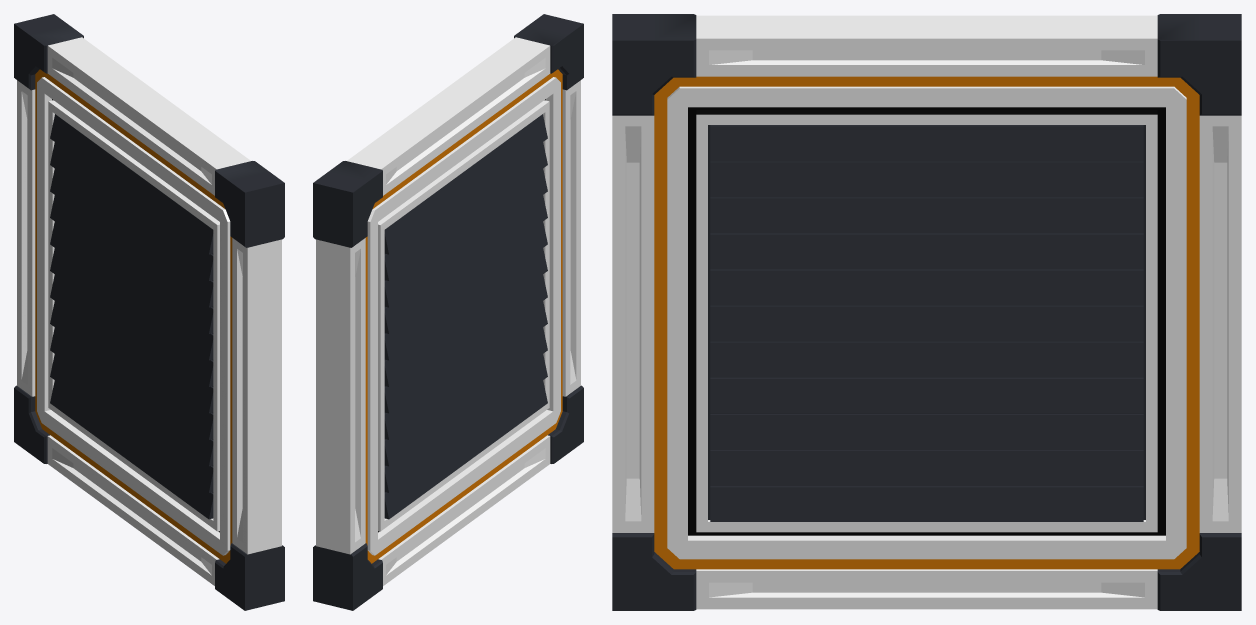
The model's file is SM_Wall_V4.glb.
The picture shows the model from 3 angles, left to right: view 1: azimuth 30°, elevation 25°; view 2: azimuth 150°, elevation 25°; view 3: azimuth 270°, elevation 25°; orthographic projection. The views are drawn at different scales.
Visible parts, largest first — view 1: SM_Wall_Cadre.005; view 2: SM_Wall_Cadre.005; view 3: SM_Wall_Cadre.005.
Part boxes in pixels (x1,y1,x2,y2): SM_Wall_Cadre.005: [14, 14, 284, 610]; SM_Wall_Cadre.005: [313, 14, 583, 610]; SM_Wall_Cadre.005: [612, 14, 1241, 610].
Bounding box in the file's own units: 0.4017 × 4 × 4.
